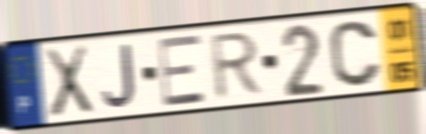2: (279, 19, 327, 100)
C: (326, 18, 384, 90)
E: (155, 32, 209, 110)
J: (100, 41, 139, 110)
R: (209, 29, 266, 103)
X: (42, 42, 95, 122)
